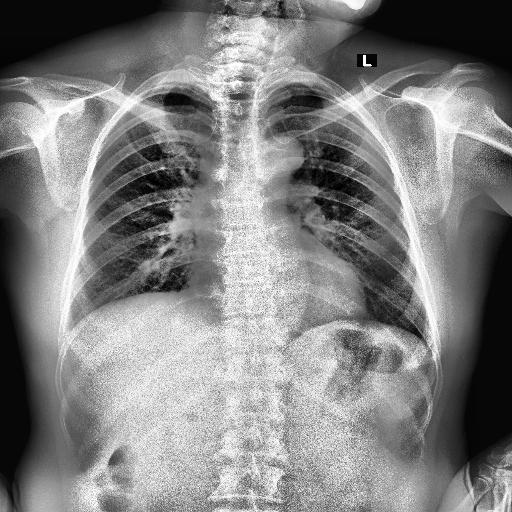0- Aortic enlargement: (188, 135, 304, 233), (240, 134, 305, 174), (252, 138, 307, 178)
3- Cardiomegaly: (179, 264, 369, 328), (182, 261, 365, 324)
